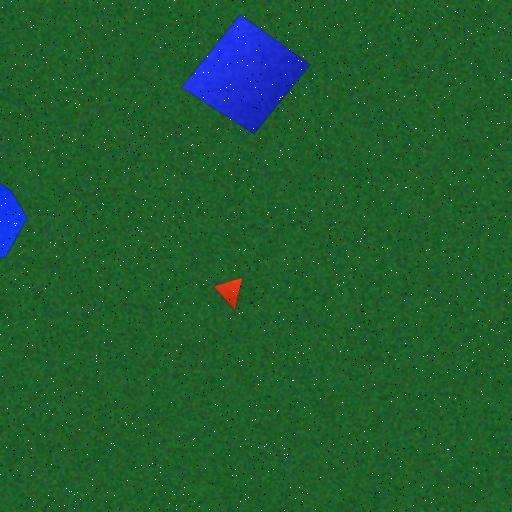BLUE_SQUARE: (181, 14, 311, 134)
